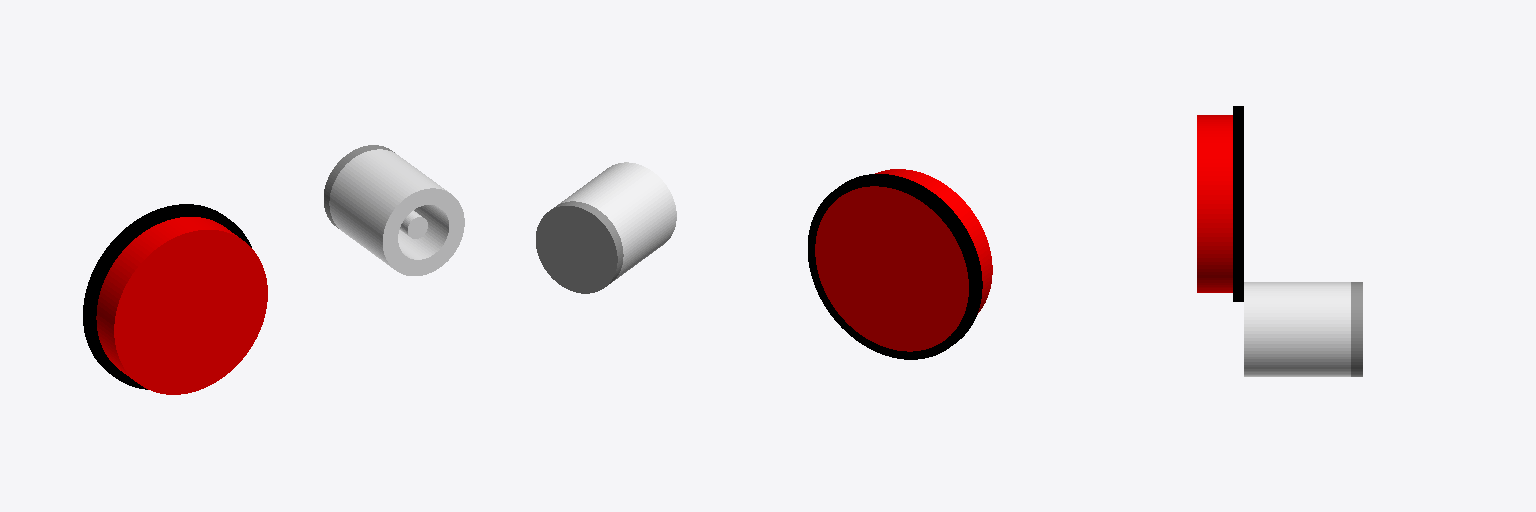
File: power.obj
3 renders of one model, left to right at view 1: azimuth 30°, elevation 25°; view 2: azimuth 150°, elevation 25°; view 3: azimuth 270°, elevation 25°, orthographic.
Visible parts, largest first — view 1: Body1, Body4, Body1:1, Body2, Body5; view 2: Body1, Body4, Body2, Body1:1; view 3: Body4, Body1, Body1:1, Body2.
Part boxes in pixels (left/top/right/bottom): Body1: left=96, top=217, right=267, bottom=394; Body4: left=329, top=149, right=464, bottom=275; Body1:1: left=83, top=204, right=251, bottom=389; Body2: left=324, top=145, right=394, bottom=228; Body5: left=400, top=210, right=427, bottom=238; Body1: left=815, top=169, right=992, bottom=351; Body4: left=558, top=162, right=676, bottom=280; Body2: left=536, top=201, right=623, bottom=293; Body1:1: left=808, top=174, right=982, bottom=359; Body4: left=1244, top=282, right=1350, bottom=376; Body1: left=1197, top=115, right=1232, bottom=292; Body1:1: left=1233, top=106, right=1243, bottom=301; Body2: left=1351, top=282, right=1362, bottom=376.
Bounding box in the file's own units: 37.25 × 16.49 × 14.